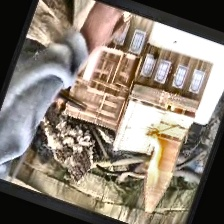fire: (132, 124, 178, 190)
